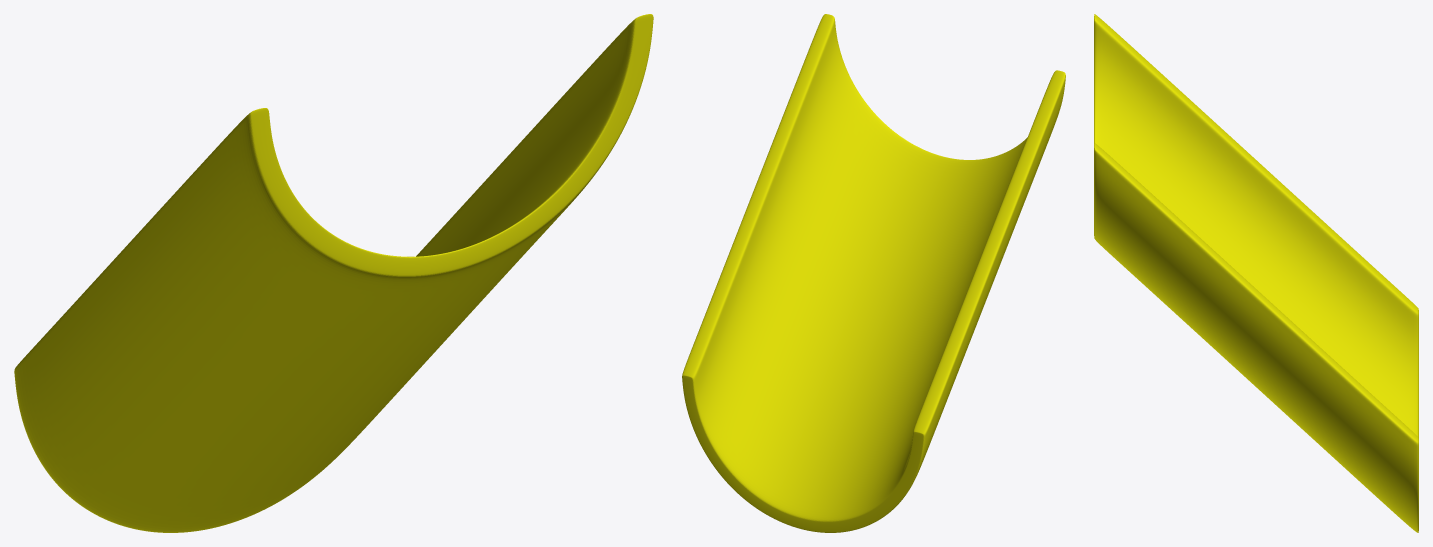
The model's file is pipe incline 2.fbx.
3 views of the same model, side by side, from view 1: azimuth 30°, elevation 25°; view 2: azimuth 150°, elevation 25°; view 3: azimuth 270°, elevation 25° (orthographic). The views are drawn at different scales.
Visible parts, largest first — view 1: Cylinder; view 2: Cylinder; view 3: Cylinder.
Part boxes in pixels (x1,y1,x2,y2): Cylinder: [14, 14, 653, 532]; Cylinder: [682, 14, 1065, 532]; Cylinder: [1094, 14, 1418, 532].
Bounding box in the file's own units: 99.64 × 149 × 100.
